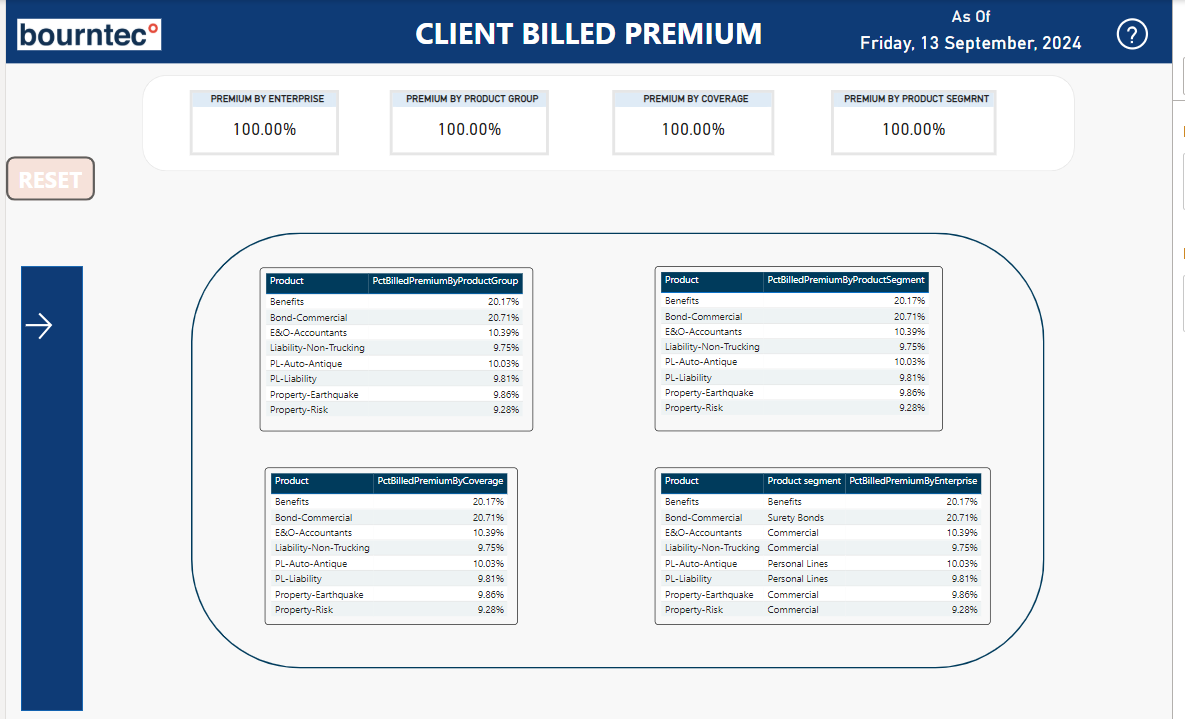

The dashboard page shown, as its layout file describes it:
{"tool":"powerbi","page":{"name":"CLIENT BILLED PREMIUM","canvas":[1600,1000],"ordinal":6},"visuals":[{"type":"shape","box":[253,318.4,1171.3,598.2],"z":0},{"type":"tableEx","fields":{"Values":["Policy Details.Product","Policy Details.PctBilledPremiumByProductGroup"]},"box":[348.5,367,375.3,224.5],"z":1000},{"type":"tableEx","fields":{"Values":["Policy Details.Product","Policy Details.PctBilledPremiumByProductSegment"]},"box":[889.7,365.3,395.4,226.2],"z":2000},{"type":"tableEx","fields":{"Values":["Policy Details.Product","Policy Details.PctBilledPremiumByCoverage"]},"box":[355.2,641.8,346.9,216.2],"z":3000},{"type":"tableEx","fields":{"Values":["Policy Details.Product","Policy Details.Product segment","Policy Details.PctBilledPremiumByEnterprise"]},"box":[889.7,641.8,460.8,216.2],"z":4000},{"type":"shape","box":[0,0,1600,87],"z":5000},{"type":"shape","box":[186.4,103.4,1279.7,132.2],"z":6000},{"type":"card","title":"PREMIUM BY ENTERPRISE","fields":{"Values":["Policy Details.PctBilledPremiumByEnterprise"]},"box":[252.5,123.7,205.1,89.8],"z":7000},{"type":"card","title":"PREMIUM BY PRODUCT GROUP","fields":{"Values":["Policy Details.PctBilledPremiumByProductGroup"]},"box":[527.1,123.7,218.6,89.8],"z":8000},{"type":"card","title":"PREMIUM BY COVERAGE","fields":{"Values":["Policy Details.PctBilledPremiumByCoverage"]},"box":[832.2,123.7,222,89.8],"z":9000},{"type":"card","title":"PREMIUM BY PRODUCT SEGMRNT","fields":{"Values":["Policy Details.PctBilledPremiumByProductSegment"]},"box":[1132.2,123.7,227.1,89.8],"z":10000},{"type":"image","box":[15.1,25.1,197.7,43.6],"z":11000},{"type":"shape","box":[20.3,366.1,84.7,610.2],"z":12000},{"type":"actionButton","box":[20.3,423.7,93.2,47.5],"z":14000},{"type":"actionButton","box":[0,215.3,122,61],"z":16000},{"type":"card","title":"As Of","fields":{"Values":["Min(REFRESH_DATE.DATE)"]},"box":[1107.6,8.4,432.3,70.4],"z":17000},{"type":"actionButton","box":[1518.1,18.4,57,55.3],"z":18000}]}

Visuals, with their boxes on the page's 1600x1000 design canvas (x1, y1, x2, y2). These are canvas units, not pixel positions in the 1185x719 screenshot, which may show the page scaled, cropped or inside an application window:
shape: x1=253, y1=318, x2=1424, y2=917
tableEx - Policy Details.Product x Policy Details.PctBilledPremiumByProductGroup: x1=348, y1=367, x2=724, y2=592
tableEx - Policy Details.Product x Policy Details.PctBilledPremiumByProductSegment: x1=890, y1=365, x2=1285, y2=592
tableEx - Policy Details.Product x Policy Details.PctBilledPremiumByCoverage: x1=355, y1=642, x2=702, y2=858
tableEx - Policy Details.Product x Policy Details.Product segment: x1=890, y1=642, x2=1350, y2=858
shape: x1=0, y1=0, x2=1600, y2=87
shape: x1=186, y1=103, x2=1466, y2=236
"PREMIUM BY ENTERPRISE" card: x1=252, y1=124, x2=458, y2=214
"PREMIUM BY PRODUCT GROUP" card: x1=527, y1=124, x2=746, y2=214
"PREMIUM BY COVERAGE" card: x1=832, y1=124, x2=1054, y2=214
"PREMIUM BY PRODUCT SEGMRNT" card: x1=1132, y1=124, x2=1359, y2=214
image: x1=15, y1=25, x2=213, y2=69
shape: x1=20, y1=366, x2=105, y2=976
actionButton: x1=20, y1=424, x2=114, y2=471
actionButton: x1=0, y1=215, x2=122, y2=276
"As Of" card: x1=1108, y1=8, x2=1540, y2=79
actionButton: x1=1518, y1=18, x2=1575, y2=74
